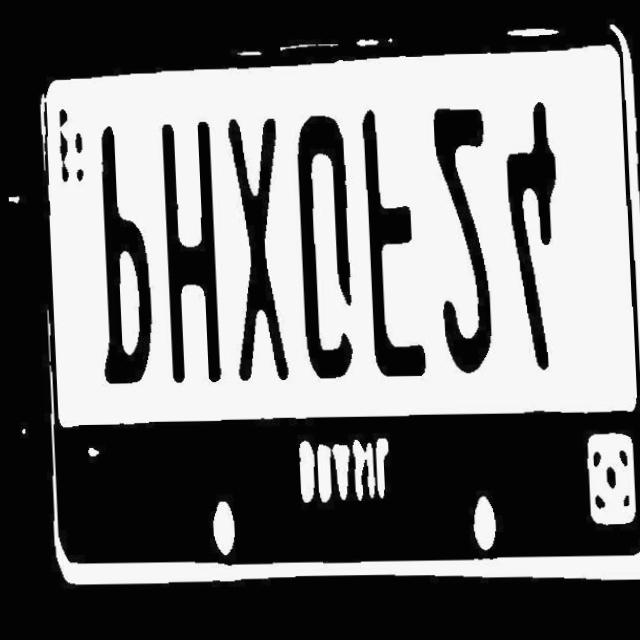0: (287, 105, 358, 382)
2: (424, 96, 496, 381)
4: (496, 95, 574, 388)
f: (356, 101, 424, 388)
h: (156, 108, 223, 396)
p: (83, 120, 157, 390)
x: (221, 110, 292, 389)
